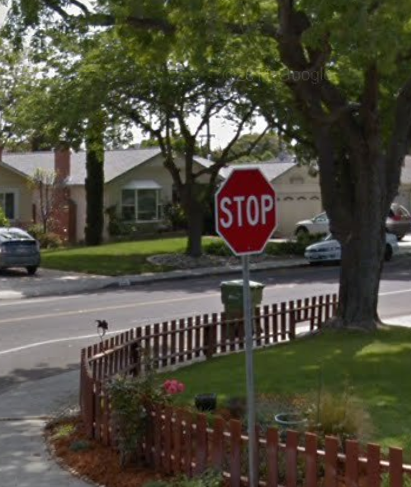stop_sign: (216, 169, 278, 254)
